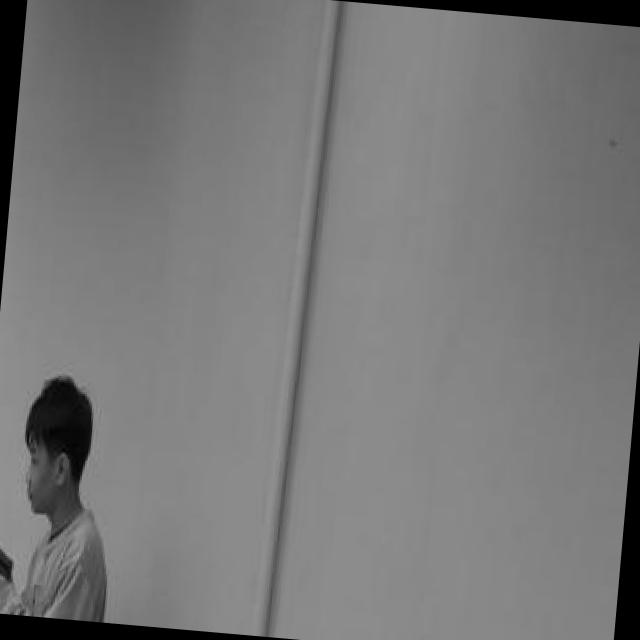Guns: (0, 515, 19, 608)
